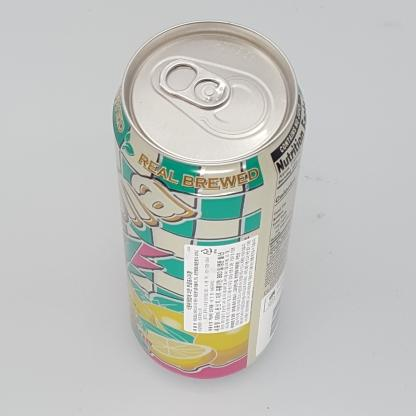-------------------680ML: (112, 21, 306, 380)
